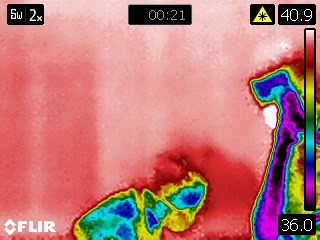human: (247, 60, 320, 240), (70, 155, 213, 240)
